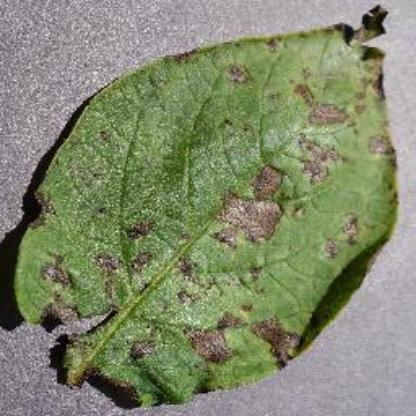Early-Blight: (11, 5, 401, 403)
